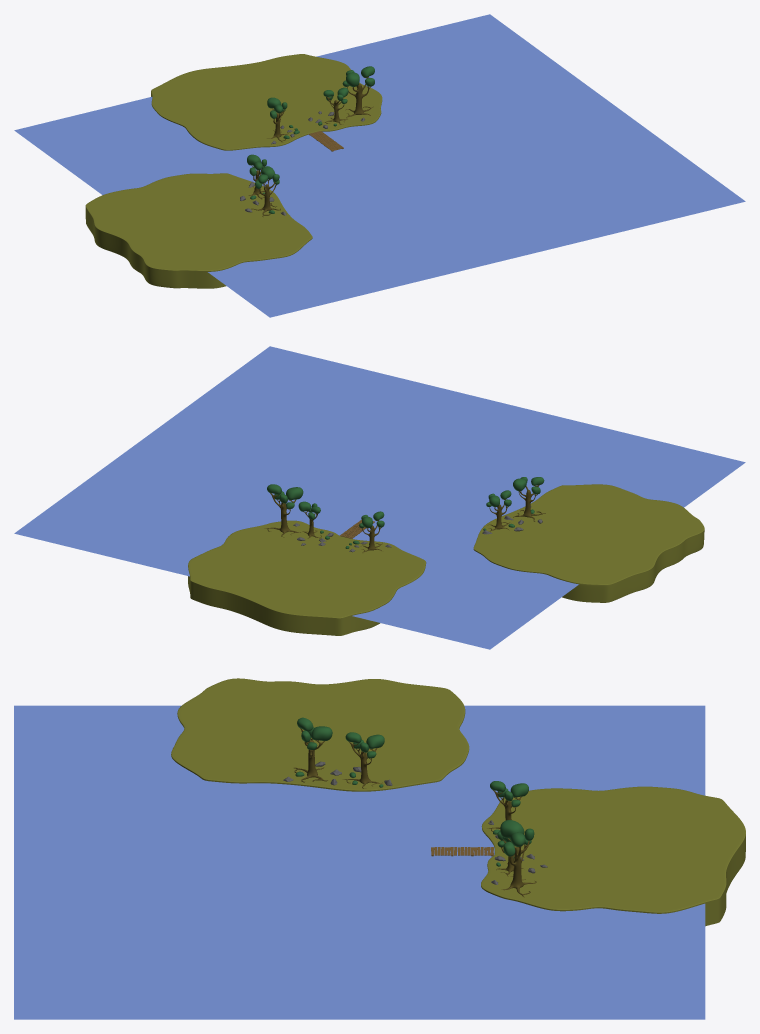
Rendered from envy.fbx.
The picture shows the model from 3 angles, top to bottom: view 1: azimuth 30°, elevation 25°; view 2: azimuth 150°, elevation 25°; view 3: azimuth 270°, elevation 25°; orthographic projection. The views are drawn at different scales.
Visible parts, largest first — view 1: Cube.031; view 2: Cube.031; view 3: Cube.031.
Part boxes in pixels (x1,y1,x2,y2): Cube.031: (14, 14, 745, 317); Cube.031: (14, 346, 745, 649); Cube.031: (14, 678, 745, 1019).
Size of the model in its own units: 5787 by 659 by 5268.
